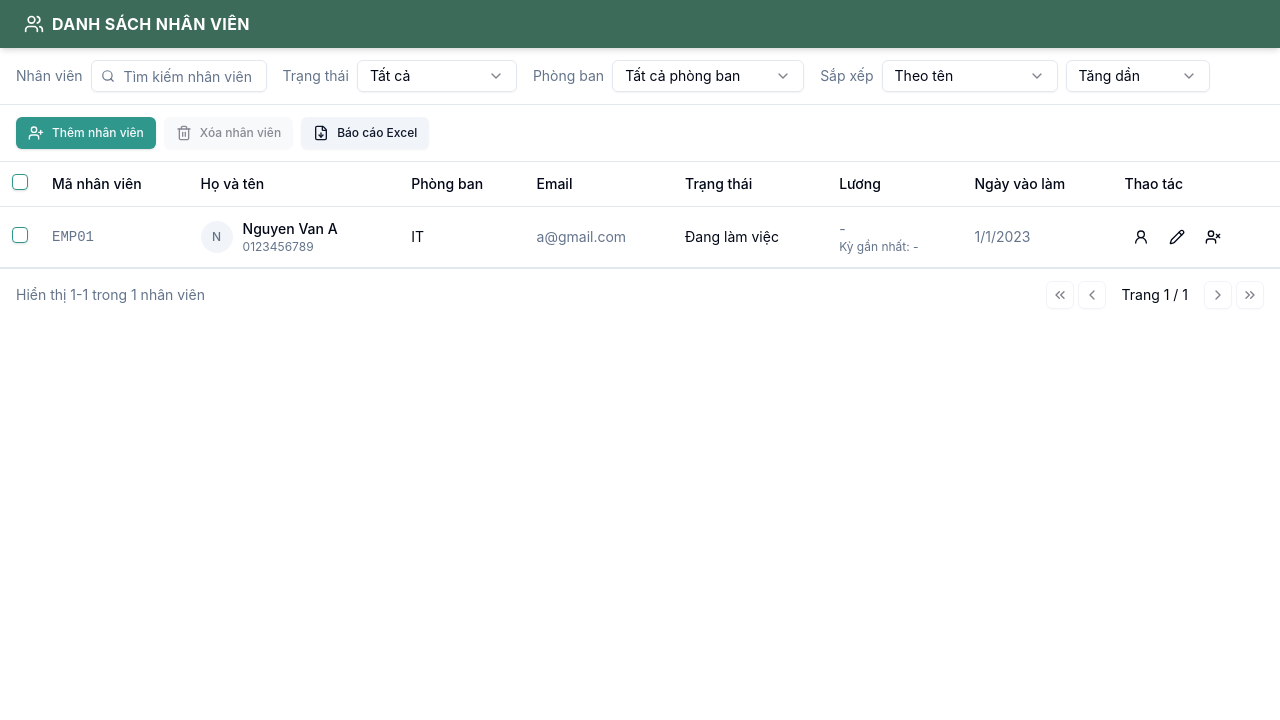
Scenario: HRM Pages › EmployeeListPage › 3. Mở form tạo nhân viên
Expected: the text "Nguyen Van A" is shown, [243,219,338,239]
Step 1. Click the button "Thêm nhân viên" → (86, 133), box [16,117,156,149]
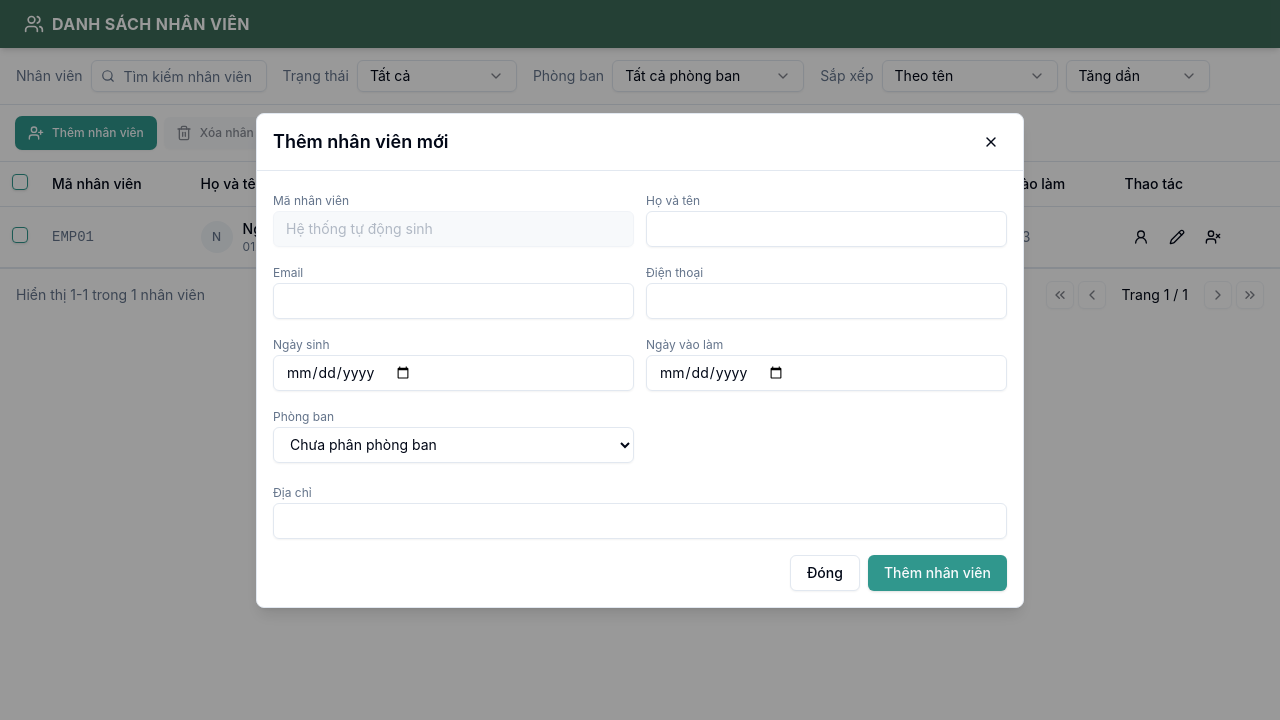
Expected: the heading "Thêm nhân viên mới" is shown, [273,128,448,156]
